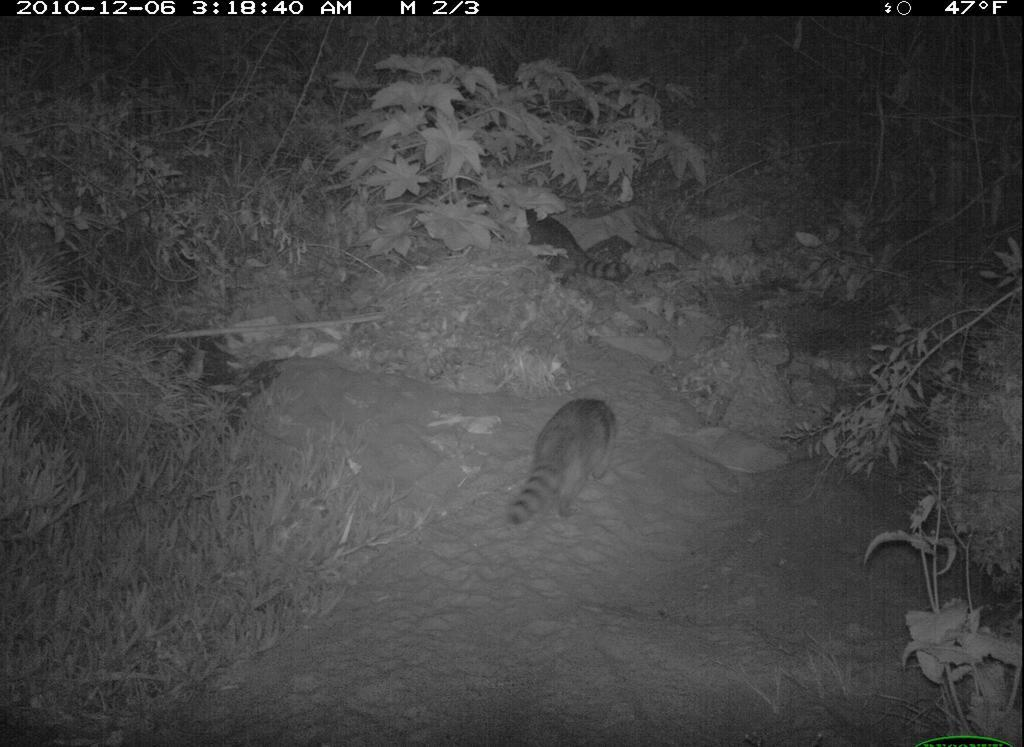raccoon: (502, 390, 625, 546), (491, 191, 643, 294)
